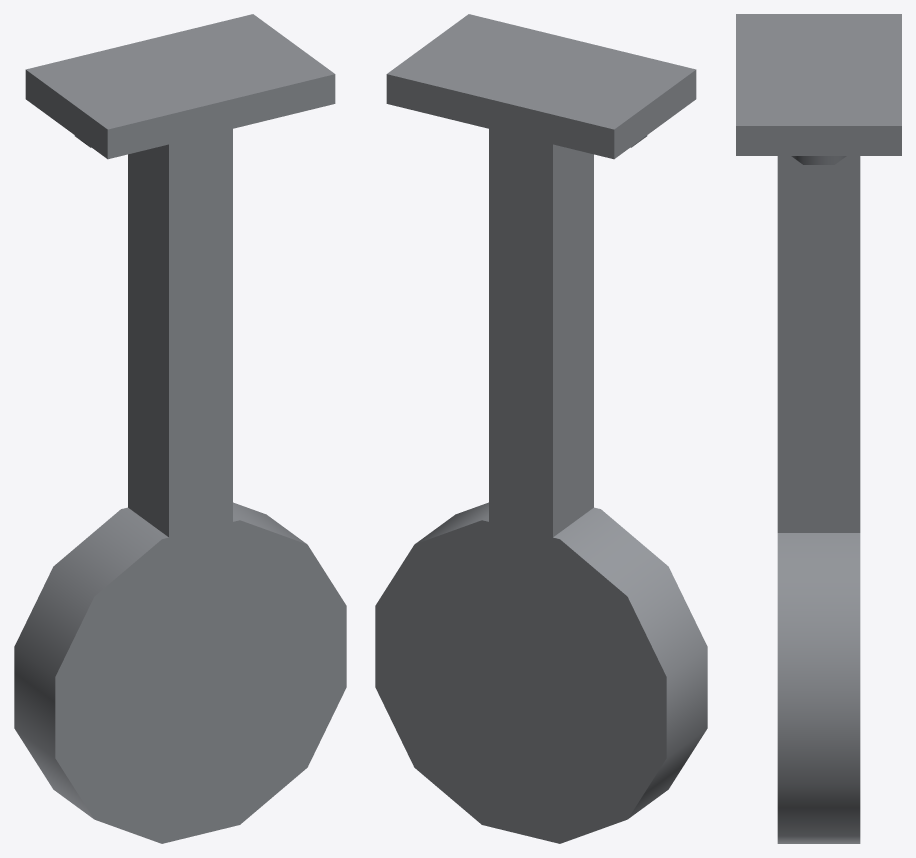
The model's file is clamp_z_up.obj.
The picture shows the model from 3 angles, left to right: view 1: azimuth 30°, elevation 25°; view 2: azimuth 150°, elevation 25°; view 3: azimuth 270°, elevation 25°; orthographic projection.
Visible parts, largest first — view 1: clamp_z_up; view 2: clamp_z_up; view 3: clamp_z_up.
Part boxes in pixels (x1=…): clamp_z_up: x1=14, y1=14, x2=346, y2=843; clamp_z_up: x1=375, y1=14, x2=707, y2=843; clamp_z_up: x1=736, y1=14, x2=901, y2=843.
Size of the model in its own units: 0.256 by 0.628 by 0.125.
